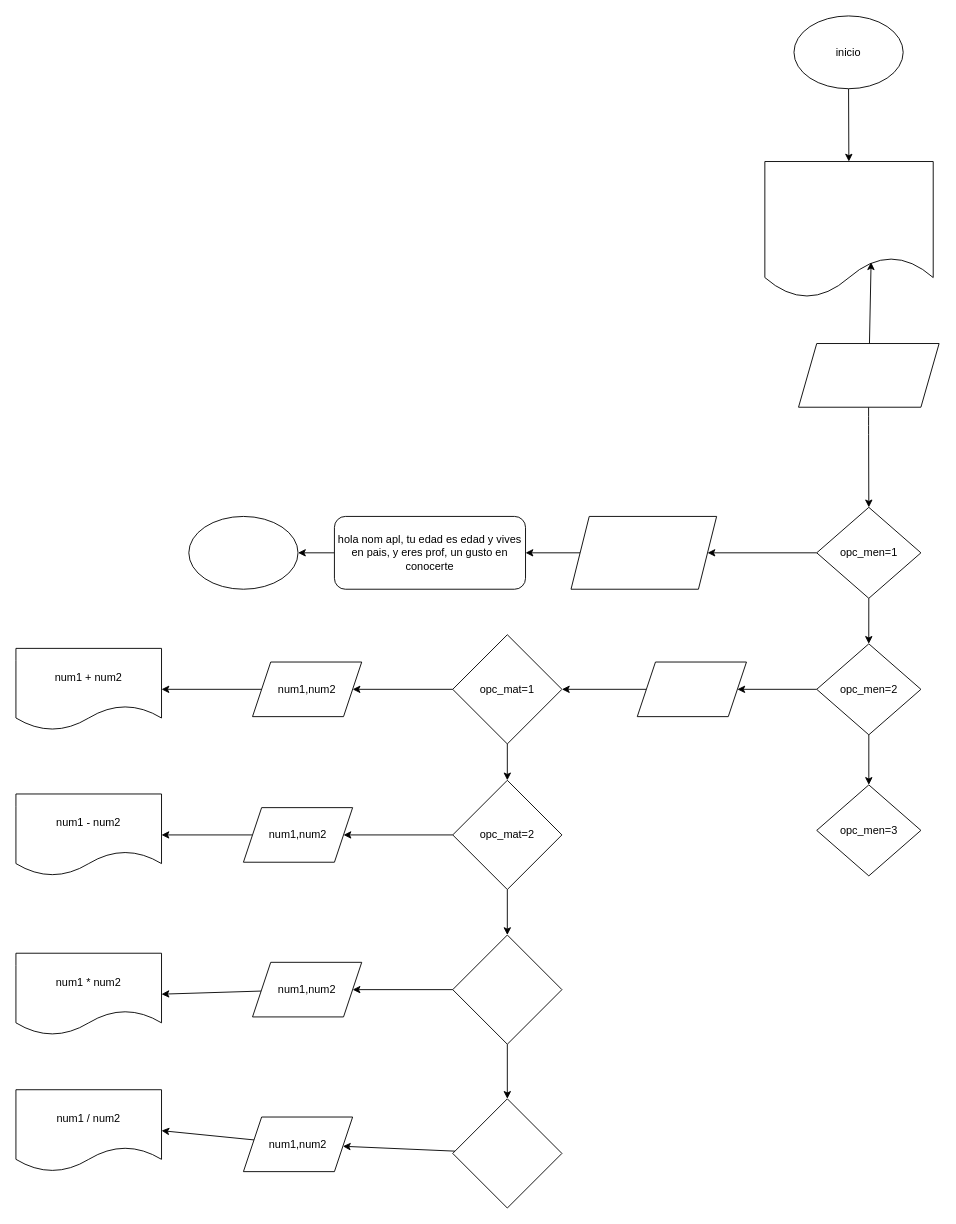
Some shapes in this 956 by 1224 pixel diagram are drawn without their labels. Each missing label, with the box of its shape:
1.saludo 2.calculadora 3.adivinar numero 4.conversor 5.mayor o menor: (764, 161, 933, 298)
fin: (188, 516, 298, 589)
nom,apl,edad,pais,prof: (570, 516, 717, 589)
opc_mat: (636, 661, 746, 717)
opc_mat=3: (452, 934, 562, 1044)
opc_mat=4: (452, 1098, 562, 1208)
opc_men: (798, 343, 939, 407)
